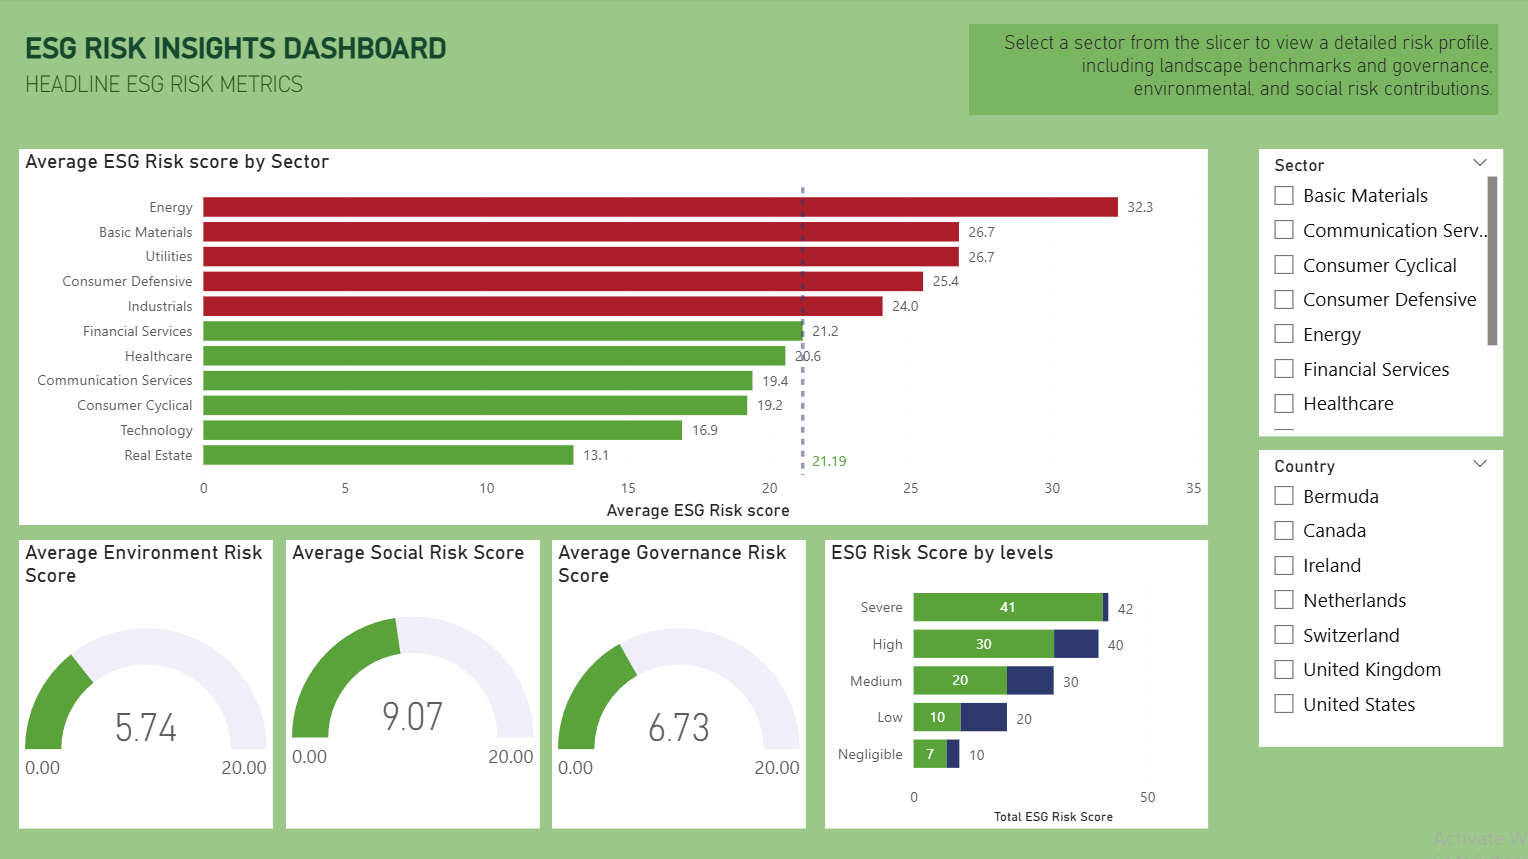

The page's visual inventory and layout, read from the dashboard file:
{"tool":"powerbi","page":{"name":"Headline Risk Metrics","canvas":[1280,720],"ordinal":3},"visuals":[{"type":"clusteredBarChart","fields":{"Category":["SP 500 ESG Risk Ratings.Sector"],"Y":["Avg(SP 500 ESG Risk Ratings.Total ESG Risk score)"]},"box":[18.6,125.7,992.9,314.3],"z":0},{"type":"textbox","box":[18,55.4,354.6,42.9],"z":1000},{"type":"gauge","fields":{"Y":["Avg(SP 500 ESG Risk Ratings.Environment Risk Score)"]},"box":[18.6,452.9,212,241.4],"z":1000,"group":"g1"},{"type":"slicer","fields":{"Values":["SP 500 ESG Risk Ratings.Sector"]},"box":[1054,126.4,203.7,240.5],"z":2000},{"type":"gauge","fields":{"Y":["Avg(SP 500 ESG Risk Ratings.Social Risk Score)"]},"box":[241.2,452.9,211.8,240.9],"z":2000,"group":"g1"},{"type":"slicer","fields":{"Values":["SP 500 ESG Risk Ratings.Country"]},"box":[1054,377.9,203.7,247.9],"z":3000},{"type":"gauge","fields":{"Y":["Avg(SP 500 ESG Risk Ratings.Governance Risk Score)"]},"box":[463.7,452.9,212,241.4],"z":3000,"group":"g1"},{"type":"barChart","title":"ESG Risk Score by levels","fields":{"Category":["SP 500 ESG Risk Ratings.ESG Risk Level"],"Y":["Min(SP 500 ESG Risk Ratings.Total ESG Risk score)","SP 500 ESG Risk Ratings.Max - Min ESG Risk score"]},"box":[691.4,452.9,320,241.4],"z":4000},{"type":"textbox","box":[18.4,23.3,1234.4,41.7],"z":5000},{"type":"group","id":"g1","title":"Group 1","box":[18.6,452.9,657.1,241.4],"z":6000},{"type":"textbox","box":[811.5,21.8,442.3,75.6],"z":7000}]}

Visuals, with their boxes in screenshot pixels (x1, y1, x2, y2), scaled from the page's 1280x720 canvas onto the 1528x859 screenshot:
clusteredBarChart - SP 500 ESG Risk Ratings.Sector x Avg(SP 500 ESG Risk Ratings.Total ESG Risk score): select_region(22, 150, 1207, 525)
textbox: select_region(21, 66, 445, 117)
gauge - Avg(SP 500 ESG Risk Ratings.Environment Risk Score): select_region(22, 540, 275, 828)
slicer - SP 500 ESG Risk Ratings.Sector: select_region(1258, 151, 1501, 438)
gauge - Avg(SP 500 ESG Risk Ratings.Social Risk Score): select_region(288, 540, 541, 828)
slicer - SP 500 ESG Risk Ratings.Country: select_region(1258, 451, 1501, 747)
gauge - Avg(SP 500 ESG Risk Ratings.Governance Risk Score): select_region(554, 540, 807, 828)
"ESG Risk Score by levels" barChart: select_region(825, 540, 1207, 828)
textbox: select_region(22, 28, 1496, 78)
"Group 1" group: select_region(22, 540, 807, 828)
textbox: select_region(969, 26, 1497, 116)
